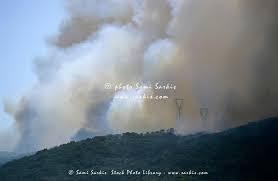yanwu: (3, 1, 278, 149)
